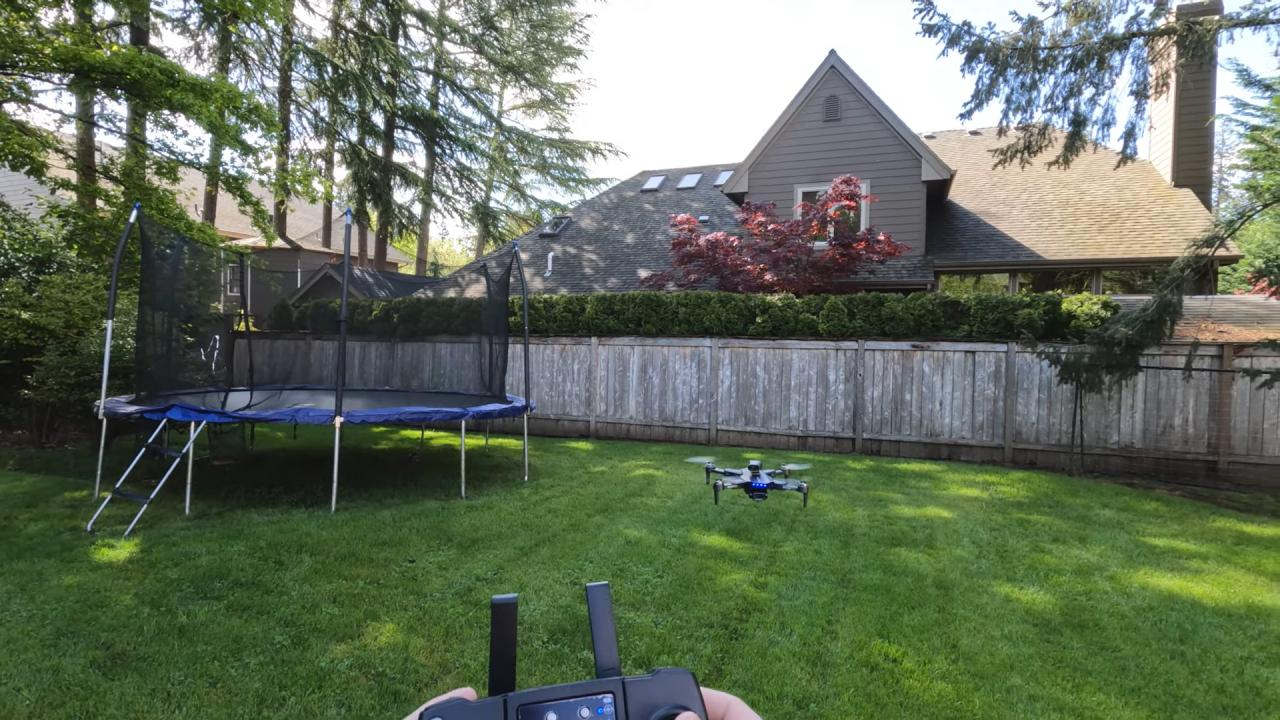Drone: (674, 446, 842, 516)
